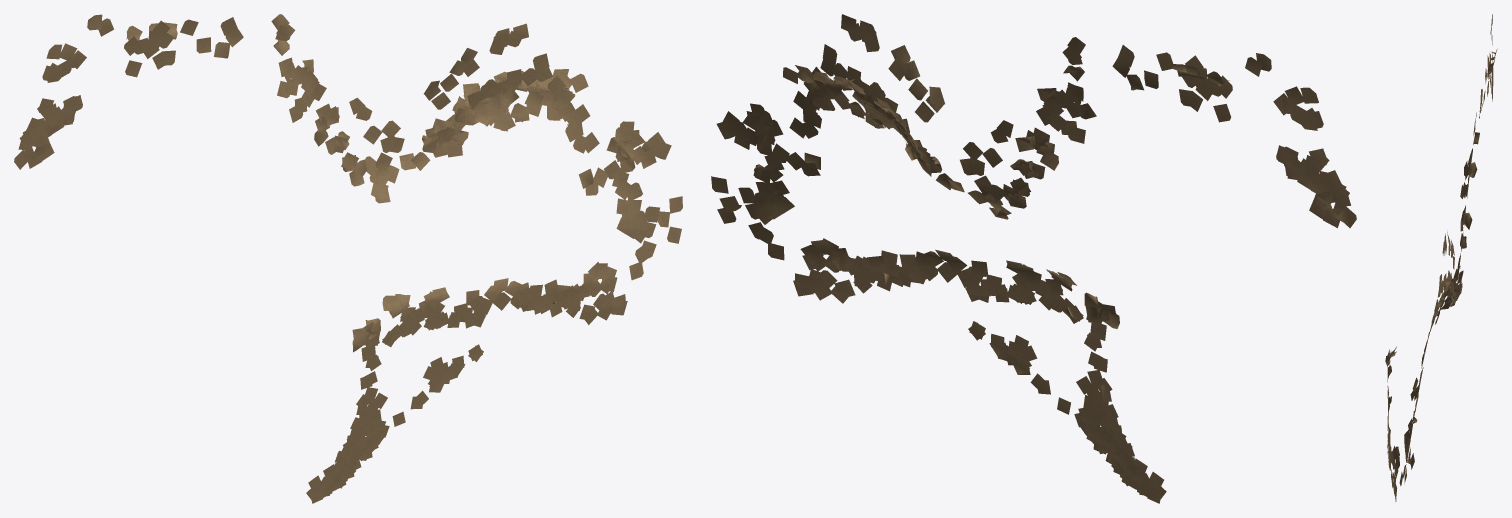
File: lisce.glb
3 views of the same model, side by side, from view 1: azimuth 30°, elevation 25°; view 2: azimuth 150°, elevation 25°; view 3: azimuth 270°, elevation 25° (orthographic). The views are drawn at different scales.
Visible parts, largest first — view 1: Background_Tree_Atlas.007_Fallen_Generic_Leaves_0; view 2: Background_Tree_Atlas.007_Fallen_Generic_Leaves_0; view 3: Background_Tree_Atlas.007_Fallen_Generic_Leaves_0.
Boxes of the visible parts, x1,y1,x2,y2 form: Background_Tree_Atlas.007_Fallen_Generic_Leaves_0: (14, 14, 682, 503); Background_Tree_Atlas.007_Fallen_Generic_Leaves_0: (711, 14, 1356, 503); Background_Tree_Atlas.007_Fallen_Generic_Leaves_0: (1385, 14, 1497, 501).
Bounding box in the file's own units: 226 × 168 × 43.57.
1 material, 1 textured.
